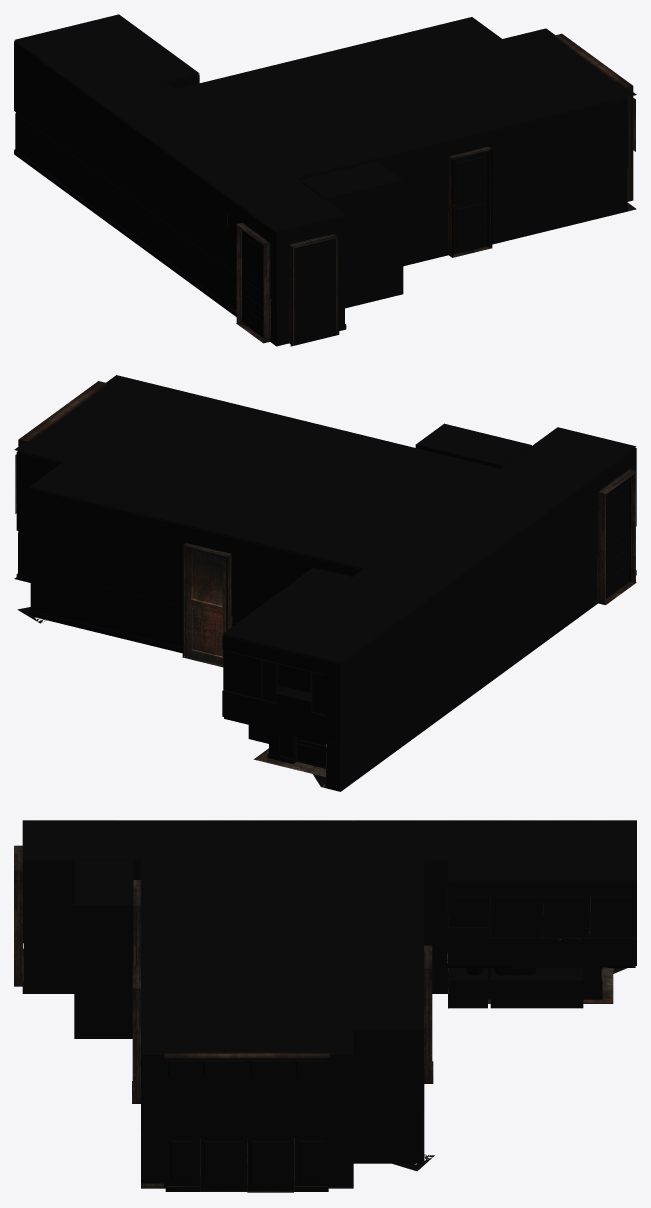
File: horror_corridor_for_game_developers.glb
3 renders of one model, top to bottom at view 1: azimuth 30°, elevation 25°; view 2: azimuth 150°, elevation 25°; view 3: azimuth 270°, elevation 25°, orthographic. The views are drawn at different scales.
Parts seen in each view (by area): view 1: Material2, Material3 (×2); view 2: Material2, Material3 (×3); view 3: Material2, Material3 (×3).
Part boxes in pixels (x1,y1,x2,y2): Material2: (14,14,636,346); Material3 (×2): (227,33,635,345); Material2: (14,375,636,791); Material3 (×3): (14,381,636,787); Material2: (22,820,636,1192); Material3 (×3): (14,845,625,1191).
Size of the model in its own units: 528 by 136 by 571.
14 materials, 14 textured.
